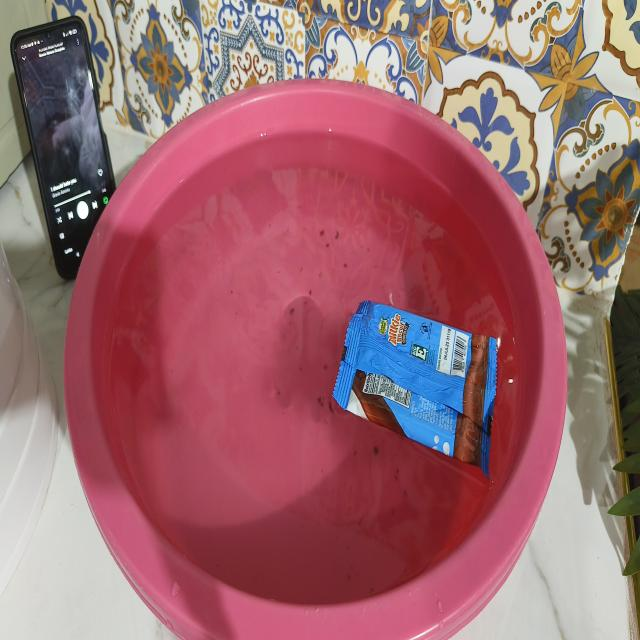Plastic Wrapper: (333, 301, 500, 478)
